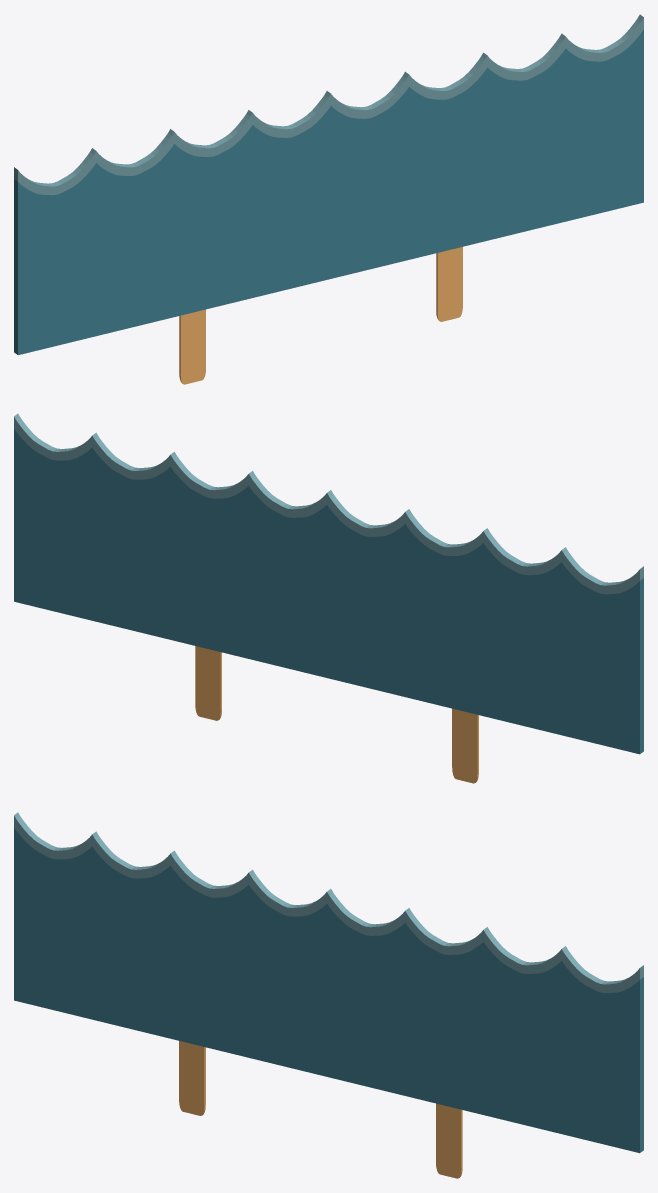
Rendered from Puppet_Waves_3.fbx.
3 renders of one model, top to bottom at view 1: azimuth 30°, elevation 25°; view 2: azimuth 150°, elevation 25°; view 3: azimuth 330°, elevation 25°, orthographic.
Parts seen in each view (by area): view 1: Puppet Waves 3; view 2: Puppet Waves 3; view 3: Puppet Waves 3.
Boxes of the visible parts, x1,y1,x2,y2 form: Puppet Waves 3: (14, 14, 643, 384); Puppet Waves 3: (14, 413, 643, 783); Puppet Waves 3: (14, 812, 643, 1178).
Size of the model in its own units: 617 by 242 by 7.
